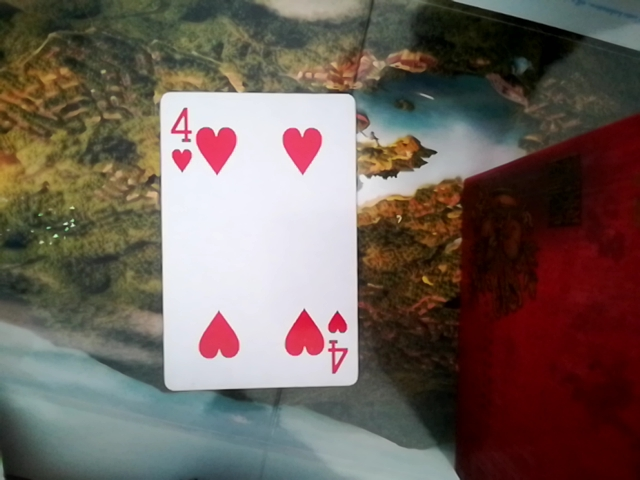hx 4: (153, 82, 369, 389)
